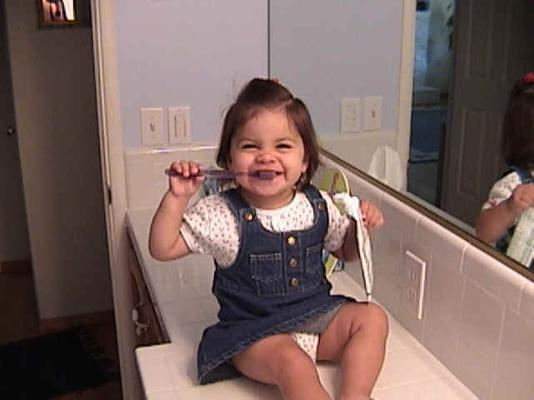person: (148, 79, 387, 398)
